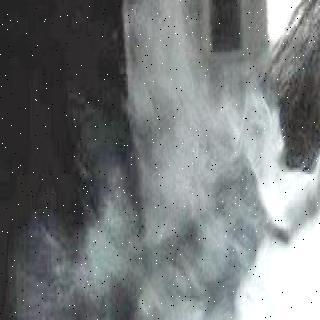smoke: (124, 2, 250, 229), (23, 245, 320, 320)
